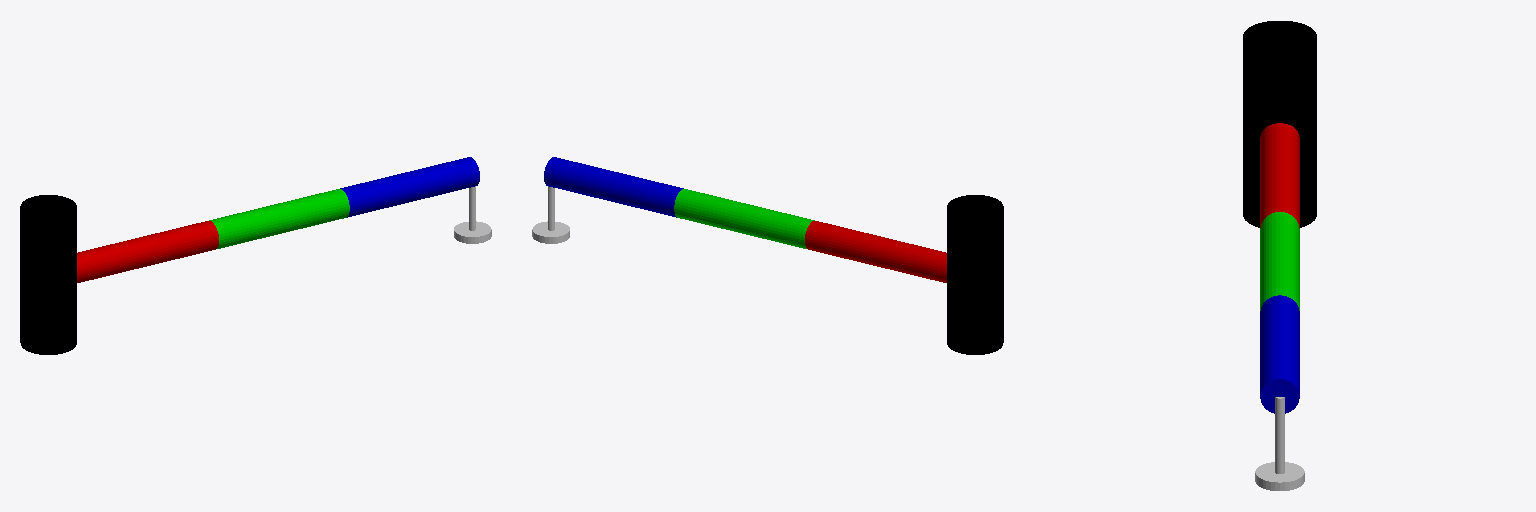
URDF robot description (planar_robot_1):
<?xml version="1.0"?>
<robot name="planar_robot_1">
  <link name="world"/>

  <joint name="planar_robot_1/base_joint" type="fixed">
    <origin rpy="0.0 0.0 0.0" xyz="0.0 0.0 0.0"/>
    <parent link="world"/>
    <child link="planar_robot_1/base_link"/>
  </joint>

  <link name="planar_robot_1/base_link">
    <inertial>
      <origin rpy="0 0 0" xyz="0.0 0.0 0.0"/>
      <mass value="1"/>
      <inertia ixx="0.05" ixy="0" ixz="0" iyy="0.018" iyz="0" izz="0.044"/>
    </inertial>
    <visual>
      <geometry>
        <cylinder radius="0.075" length="0.4"/>
      </geometry>
      <material name="black">
        <color rgba="0 0 0 1"/>
      </material>
    </visual>
    <collision>
      <geometry>
        <cylinder radius="0.075" length="0.4"/>
      </geometry>
    </collision>
  </link>

  <joint name="planar_robot_1/joint_1" type="revolute">
    <axis xyz="0 0 1"/>
    <parent link="planar_robot_1/base_link"/>
    <child link="planar_robot_1/link_1"/>
    <origin xyz="0.0 0.0 0.0" rpy="0.0 0.0 0.0"/>
    <limit effort="40.0" lower="-2.9670597283903604" upper="2.9670597283903604" velocity="2.35619449019"/>
  </joint>

  <link name="planar_robot_1/link_1">
    <inertial>
      <origin rpy="0 0 0" xyz="0.25 0.0 0.0"/>
      <mass value="1"/>
      <inertia ixx="0.0008" ixy="0" ixz="0" iyy="0.0151" iyz="0" izz="0.0151"/>
    </inertial>
    <visual>
      <origin rpy="0 1.57079632679 0" xyz="0.25 0.0 0.0"/>
      <geometry>
        <cylinder radius="0.04" length="0.5"/>
      </geometry>
      <material name="red">
        <color rgba="0.8 0 0 1"/>
      </material>
    </visual>
    <collision>
      <origin rpy="0 1.57079632679 0" xyz="0.25 0.0 0.0"/>
      <geometry>
        <cylinder radius="0.04" length="0.5"/>
      </geometry>
    </collision>
  </link>

  <joint name="planar_robot_1/joint_2" type="revolute">
    <axis xyz="0 0 1"/>
    <parent link="planar_robot_1/link_1"/>
    <child link="planar_robot_1/link_2"/>
    <origin xyz="0.5 0 0"/>
    <limit effort="30.0" lower="-2.0943951023931953" upper="2.0943951023931953" velocity="2.35619449019"/>
  </joint>

  <link name="planar_robot_1/link_2">
    <inertial>
      <origin rpy="0 0 0" xyz="0.2 0.0 0.0"/>
      <mass value="1"/>
      <inertia ixx="0.0008" ixy="0" ixz="0" iyy="0.0137" iyz="0" izz="0.0137"/>
    </inertial>
    <visual>
      <geometry>
        <cylinder radius="0.04" length="0.4"/>
      </geometry>
      <origin rpy="0.0 1.57079632679 0" xyz="0.2 0.0 0.0"/>
      <material name="green">
        <color rgba="0 0.8 0.0 1"/>
      </material>
    </visual>
    <collision>
      <geometry>
        <cylinder radius="0.04" length="0.4"/>
      </geometry>
       <origin rpy="0 1.57079632679 0" xyz="0.2 0.0 0.0"/>
    </collision>
  </link>

  <joint name="planar_robot_1/joint_3" type="revolute">
    <axis xyz="0 0 1"/>
    <parent link="planar_robot_1/link_2"/>
    <child link="planar_robot_1/link_3"/>
    <origin xyz="0.4 0 0"/>
    <limit effort="20.0" lower="-2.0943951023931953" upper="2.0943951023931953" velocity="2.35619449019"/>
  </joint>

  <link name="planar_robot_1/link_3">
    <inertial>
      <origin rpy="0 0 0" xyz="0.2 0.0 0.0"/>
      <mass value="1"/>
      <inertia ixx="0.0008" ixy="0" ixz="0" iyy="0.0023" iyz="0" izz="0.0023"/>
    </inertial>
    <visual>
      <geometry>
        <cylinder radius="0.04" length="0.4"/>
      </geometry>
      <origin rpy="0 1.57079632679 0" xyz="0.2 0 0"/>
      <material name="blue">
        <color rgba="0 0 .8 1"/>
      </material>
    </visual>
    <collision>
      <geometry>
        <cylinder radius="0.04" length="0.4"/>
      </geometry>
      <origin rpy="0 1.57079632679 0" xyz="0.2 0.0 0.0"/>
    </collision>
  </link>

  <joint name="planar_robot_1/joint_striker" type="fixed">
      <axis xyz="1 0 0"/>
      <parent link="planar_robot_1/link_3"/>
      <child link="planar_robot_1/link_striker_hand"/>
      <origin xyz="0.4 0 0.0"/>
  </joint>

  <link name="planar_robot_1/link_striker_hand">
    <inertial>
      <origin rpy="0 0 0" xyz="0.0 0.0 0.0"/>
      <mass value="0.1"/>
      <inertia ixx="0.0008" ixy="0" ixz="0" iyy="0.0023" iyz="0" izz="0.0023"/>
    </inertial>
    <visual>
      <geometry>
        <cylinder radius="0.01" length="0.189"/>
      </geometry>
      <origin rpy="0 0 0" xyz="0.0 0 -0.0945"/>
      <material name="grey">
        <color rgba="0.8 0.8 .8 1"/>
      </material>
    </visual>
    <collision>
      <geometry>
        <cylinder radius="0.01" length="0.189"/>
      </geometry>
      <origin rpy="0 0 0" xyz="0.0 0 -0.0945"/>
      <surface>
        <bounce>
          <restitution_coefficient>0.8</restitution_coefficient>
        </bounce>
        <contact>
          <ode>
            <soft_cfm>0.1</soft_cfm>
            <soft_erp>0.1</soft_erp>
            <max_vel>1</max_vel>
          </ode>
        </contact>
      </surface>
    </collision>
    <contact>
      <restitution value="1.0"/>
      <lateral_friction value="1.0"/>
      <rolling_friction value="0.0"/>
      <spinning_friction value="0.0"/>
    </contact>
  </link>

  <joint name="planar_robot_1/joint_striker_ee" type="fixed">
      <axis xyz="1 0 0"/>
      <parent link="planar_robot_1/link_striker_hand"/>
      <child link="planar_robot_1/link_striker_ee"/>
      <origin xyz="0.0 0 -0.189"/>
  </joint>

  <link name="planar_robot_1/link_striker_ee">
    <inertial>
      <origin rpy="0 0 0" xyz="0.0 0.0 0.01"/>
      <mass value="0.1"/>
      <inertia ixx="0.0008" ixy="0" ixz="0" iyy="0.0023" iyz="0" izz="0.0023"/>
    </inertial>
    <visual>
      <geometry>
        <cylinder radius="0.05" length="0.02"/>
      </geometry>
      <origin rpy="0 0 0" xyz="0.0 0 0.01"/>
      <material name="grey">
        <color rgba="0.8 0.8 .8 1"/>
      </material>
    </visual>
    <collision>
      <geometry>
        <cylinder radius="0.05" length="0.1"/>
      </geometry>
      <origin rpy="0 0 0" xyz="0.0 0.0 0.01"/>
      <surface>
        <bounce>
          <restitution_coefficient>0.8</restitution_coefficient>
        </bounce>
        <contact>
          <ode>
            <soft_cfm>0.1</soft_cfm>
            <soft_erp>0.1</soft_erp>
            <max_vel>1</max_vel>
          </ode>
        </contact>
      </surface>
    </collision>
    <contact>
      <restitution value="1.0"/>
      <lateral_friction value="1.0"/>
      <rolling_friction value="0.0"/>
      <spinning_friction value="0.0"/>
    </contact>
  </link>

</robot>

--- Facts derived from the render (not from the file) ---
Views: 3 orthographic renders of the robot side by side, from view 1: azimuth 30°, elevation 25°; view 2: azimuth 150°, elevation 25°; view 3: azimuth 270°, elevation 25°.
Model planar_robot_1 with 7 links and 6 joints (3 revolute, 3 fixed), rooted at world, posed all joints at 0.
Visible links, largest first — view 1: planar_robot_1/base_link, planar_robot_1/link_1, planar_robot_1/link_2, planar_robot_1/link_3, planar_robot_1/link_striker_ee; view 2: planar_robot_1/base_link, planar_robot_1/link_1, planar_robot_1/link_2, planar_robot_1/link_3, planar_robot_1/link_striker_ee; view 3: planar_robot_1/base_link, planar_robot_1/link_3, planar_robot_1/link_1, planar_robot_1/link_2, planar_robot_1/link_striker_ee, planar_robot_1/link_striker_hand.
Link boxes in pixels (x1=…): planar_robot_1/base_link: x1=20, y1=195, x2=76, y2=354; planar_robot_1/link_1: x1=77, y1=221, x2=218, y2=282; planar_robot_1/link_2: x1=209, y1=189, x2=349, y2=248; planar_robot_1/link_3: x1=340, y1=157, x2=479, y2=217; planar_robot_1/link_striker_ee: x1=454, y1=221, x2=491, y2=243; planar_robot_1/base_link: x1=947, y1=195, x2=1003, y2=354; planar_robot_1/link_1: x1=805, y1=221, x2=946, y2=282; planar_robot_1/link_2: x1=674, y1=189, x2=814, y2=248; planar_robot_1/link_3: x1=544, y1=157, x2=683, y2=217; planar_robot_1/link_striker_ee: x1=532, y1=221, x2=569, y2=243; planar_robot_1/base_link: x1=1243, y1=21, x2=1316, y2=227; planar_robot_1/link_3: x1=1260, y1=295, x2=1299, y2=413; planar_robot_1/link_1: x1=1260, y1=123, x2=1299, y2=227; planar_robot_1/link_2: x1=1260, y1=212, x2=1299, y2=310; planar_robot_1/link_striker_ee: x1=1255, y1=462, x2=1304, y2=490; planar_robot_1/link_striker_hand: x1=1275, y1=397, x2=1284, y2=473.
Bounding box of the posed robot: 1.43 × 0.15 × 0.4 m (x, y, z).
Geometry: primitives only (box / cylinder / sphere), no mesh files.
